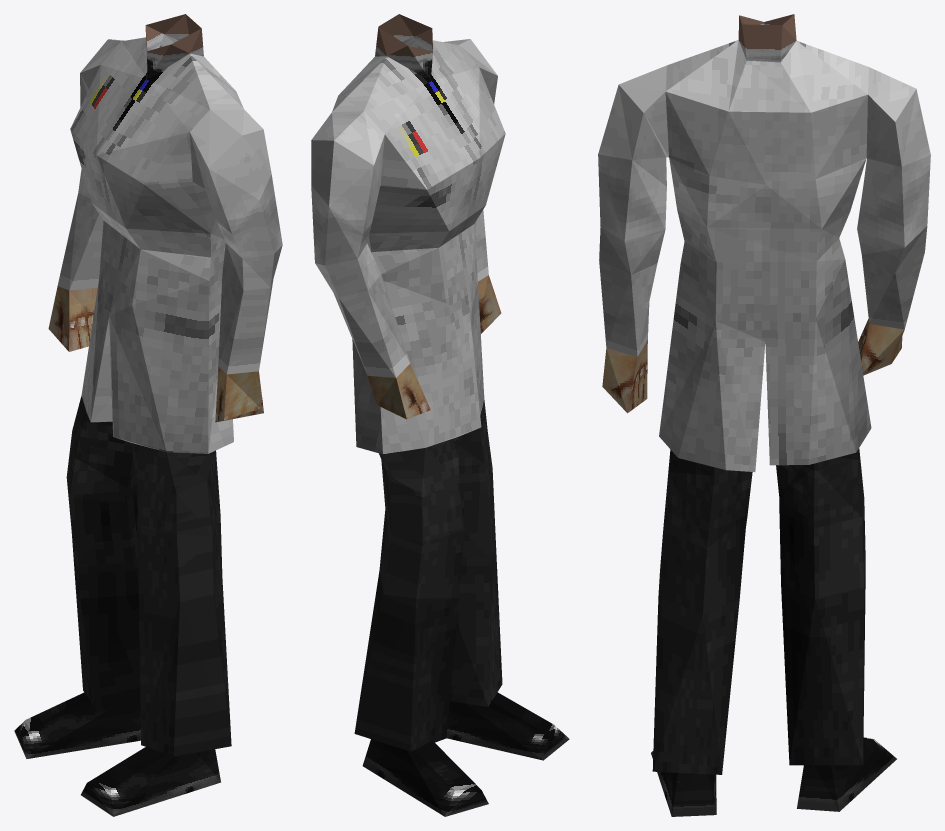
Rendered from primary_136.glb.
3 views of the same model, side by side, from view 1: azimuth 30°, elevation 25°; view 2: azimuth 150°, elevation 25°; view 3: azimuth 270°, elevation 25° (orthographic). The views are drawn at different scales.
Parts seen in each view (by area): view 1: Object; view 2: Object; view 3: Object.
Boxes of the visible parts, left/top/right/bottom form: Object: left=14, top=14, right=282, bottom=816; Object: left=311, top=14, right=569, bottom=816; Object: left=598, top=14, right=930, bottom=816.
Bounding box in the file's own units: 0.4291 × 1.83 × 0.6881.
Materials: 78 (78 with a texture image).
